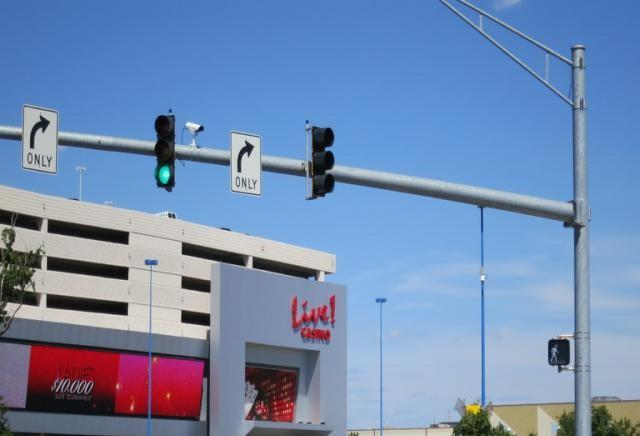green_light: (155, 113, 176, 187)
